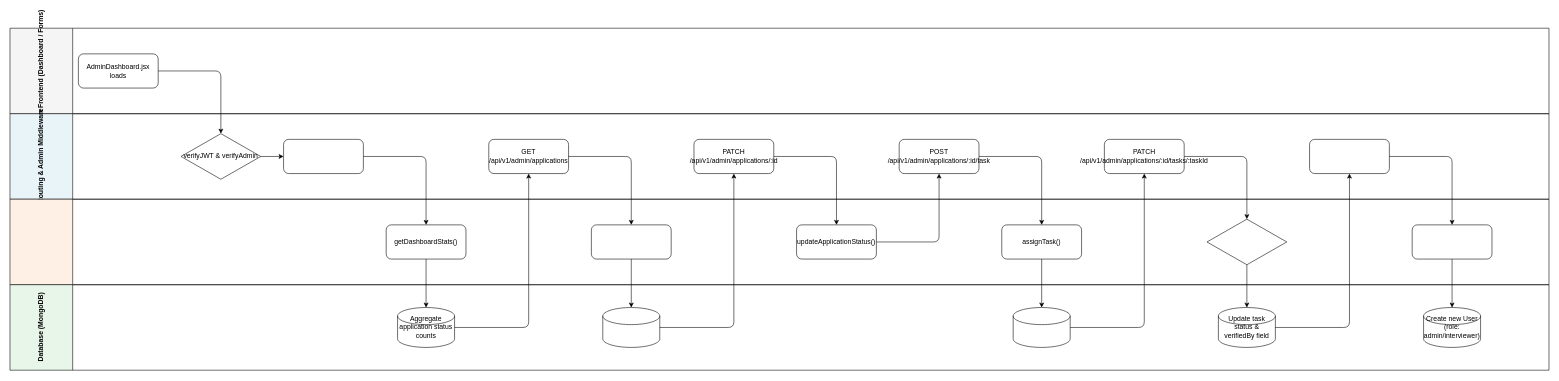
This 1559x381 diagram has some shape labels left out. Each missing label, with the box of its shape:
Admin Controller: (9, 199, 1549, 285)
createTeamMember(): (1412, 224, 1492, 259)
GET /api/v1/admin/dashboard/stats: (283, 139, 363, 174)
getAllApplications(): (591, 224, 671, 259)
POST /api/v1/admin/team/create: (1309, 139, 1389, 174)
Push new task schema into tasks array: (1013, 307, 1070, 347)
Query Applications (Filter, search, paginate): (602, 307, 660, 347)
verifyTask() (original verifier / superadmin checks): (1206, 219, 1287, 265)
